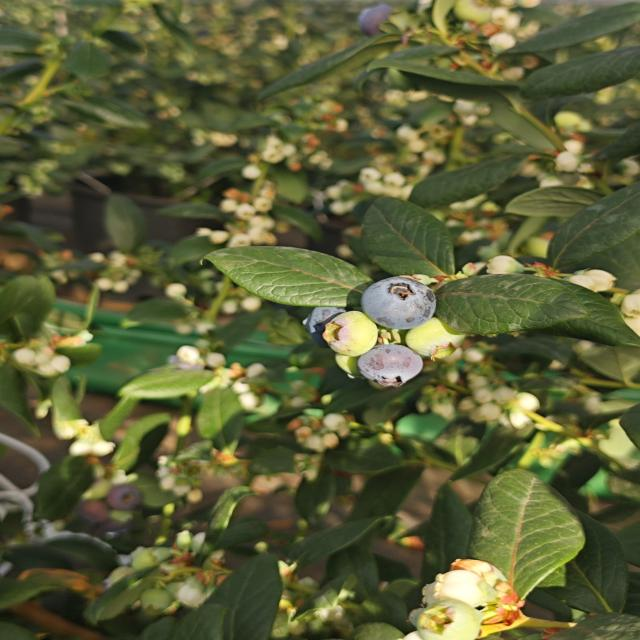ripe: (358, 274, 439, 332), (354, 342, 425, 390), (296, 296, 353, 352)
